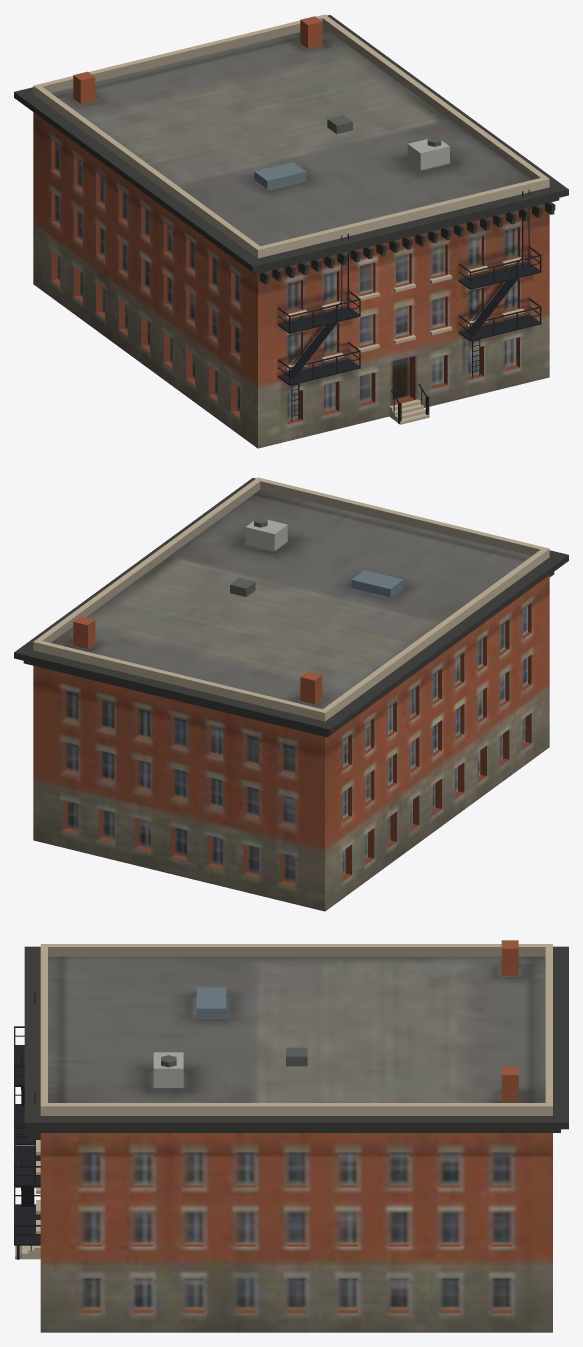
File: seattle_low_e.glb
3 renders of one model, top to bottom at view 1: azimuth 30°, elevation 25°; view 2: azimuth 150°, elevation 25°; view 3: azimuth 270°, elevation 25°, orthographic. The views are drawn at different scales.
Parts seen in each view (by area): view 1: seattle_low_e; view 2: seattle_low_e; view 3: seattle_low_e.
Boxes of the visible parts, x1,y1,x2,y2 form: seattle_low_e: (14,14,568,448); seattle_low_e: (14,477,568,911); seattle_low_e: (14,940,568,1332).
Size of the model in its own units: 19.5 by 12.6 by 26.
Materials: 1 (1 with a texture image).
